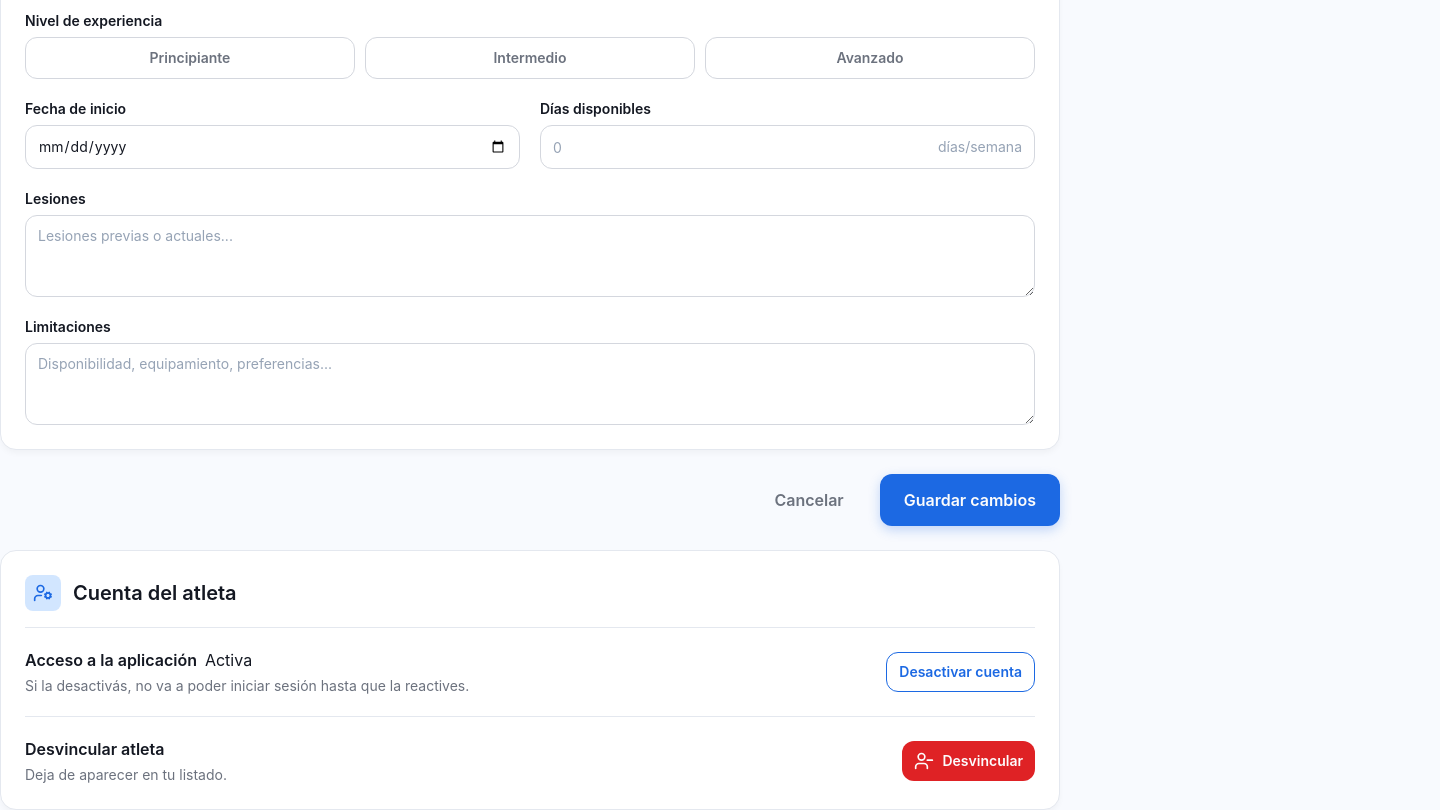
it: EditAthletePage › desactiva la cuenta tras confirmar y muestra el nuevo estado
(page scrolled)
Click the button "Desactivar cuenta".
click(961, 672)  # box [886, 652, 1035, 692]
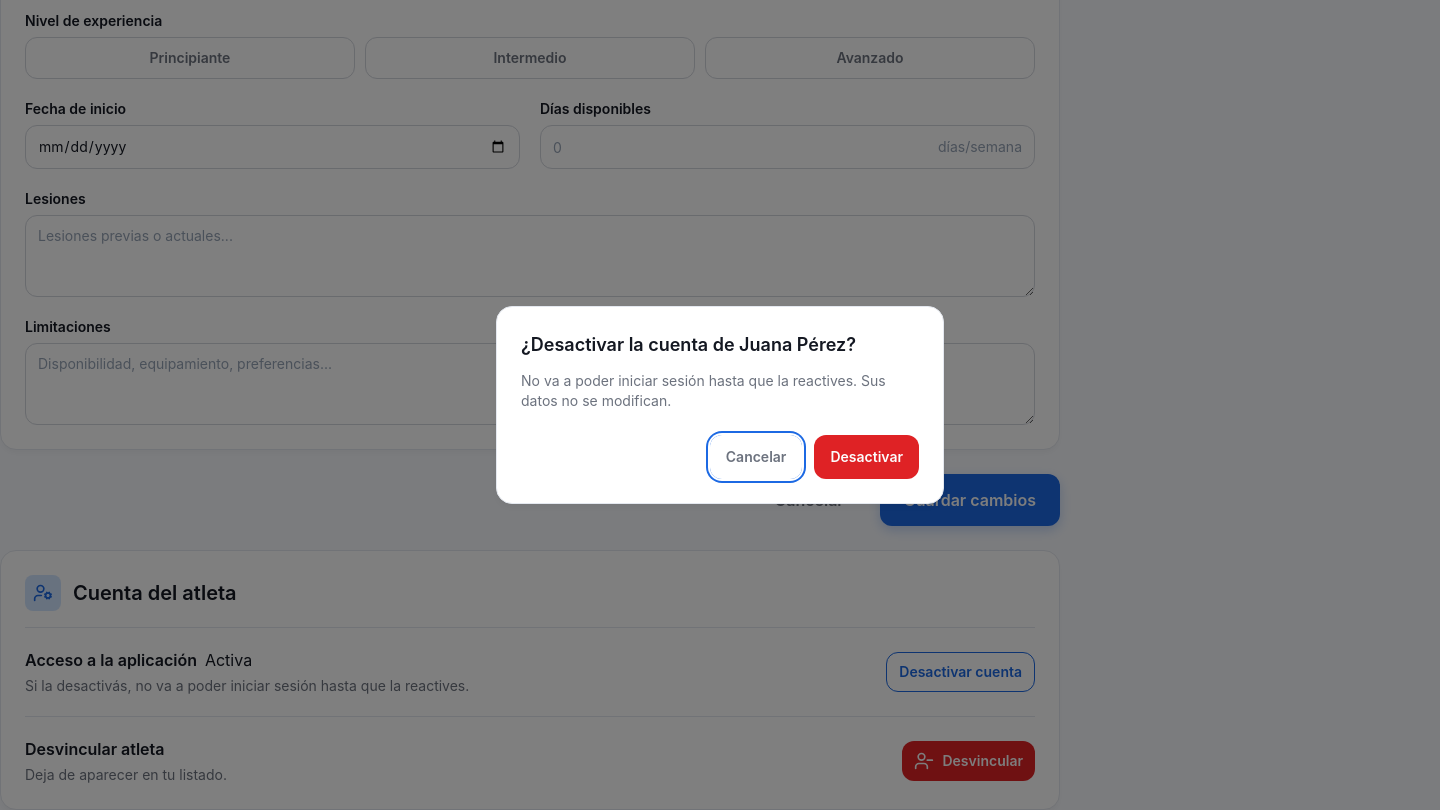
Click the button "Desactivar".
click(867, 457)  # box [814, 435, 919, 479]
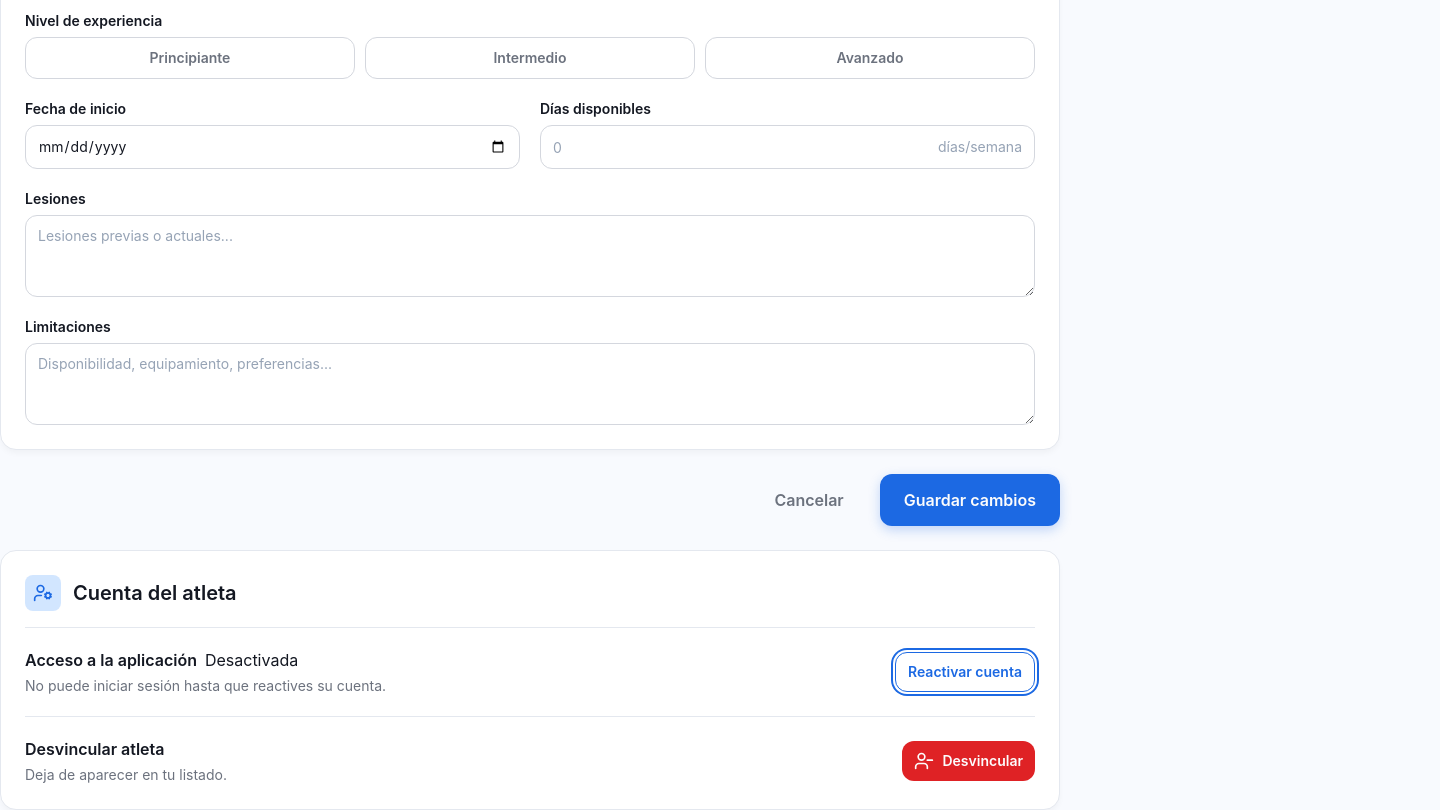
Expected: the button "Reactivar cuenta" is enabled, [895, 652, 1035, 692]
Expected: the dialog is gone
